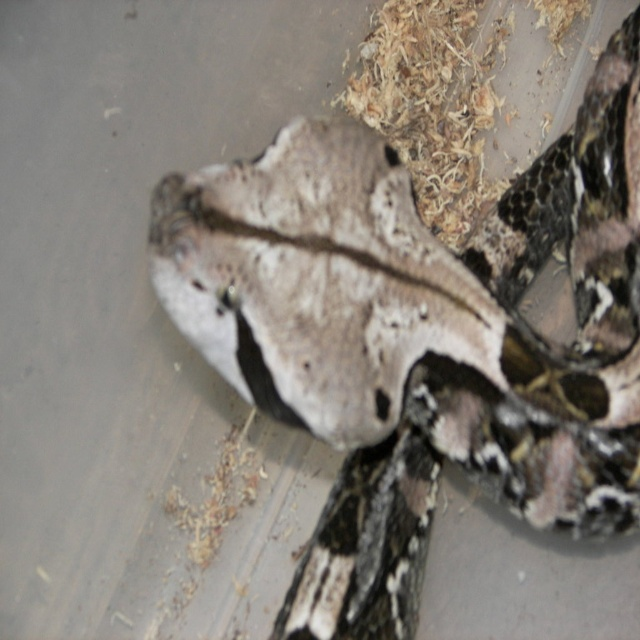Snake: (148, 2, 640, 639)
